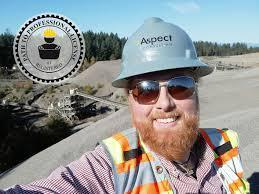helmet: (111, 16, 216, 88)
